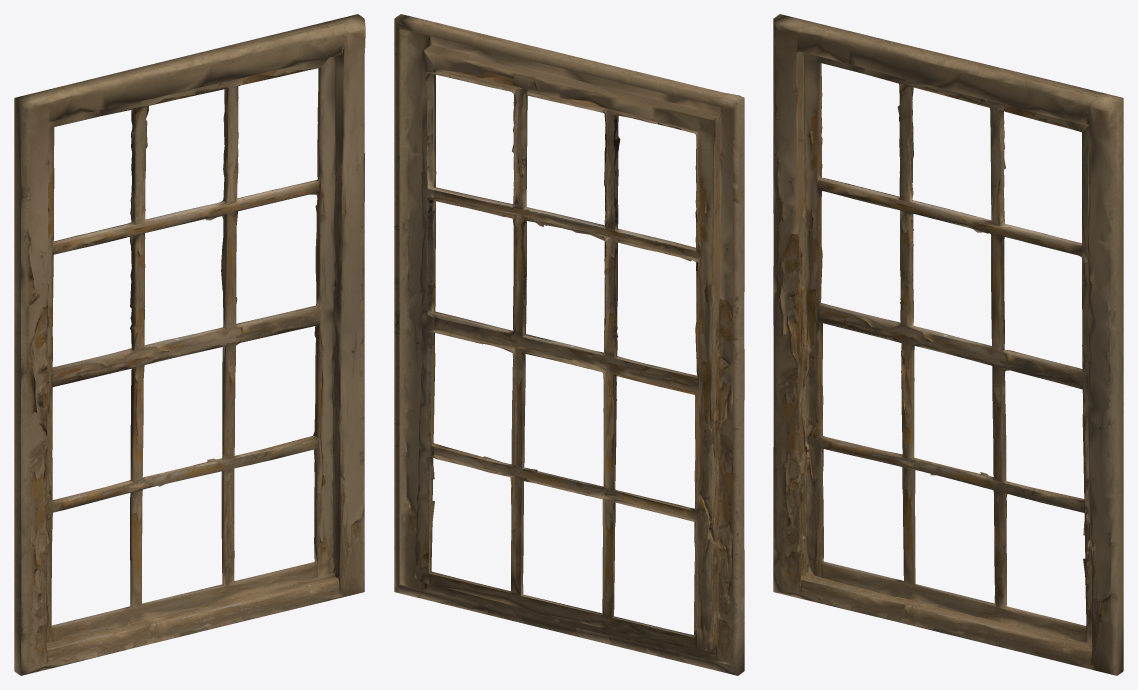
File: old_wooden_window_vmfwcabdw_mid.glb
The picture shows the model from 3 angles, left to right: view 1: azimuth 30°, elevation 25°; view 2: azimuth 150°, elevation 25°; view 3: azimuth 330°, elevation 25°; orthographic projection.
Visible parts, largest first — view 1: vmfwcabdw_LOD0_TIER2_000; view 2: vmfwcabdw_LOD0_TIER2_000; view 3: vmfwcabdw_LOD0_TIER2_000.
Boxes of the visible parts, box(x1,y1,x2,y2) form: vmfwcabdw_LOD0_TIER2_000: box(14, 14, 365, 675); vmfwcabdw_LOD0_TIER2_000: box(394, 14, 744, 675); vmfwcabdw_LOD0_TIER2_000: box(773, 14, 1123, 675).
Size of the model in its own units: 1.27 by 2.03 by 0.1047.
1 material, 1 textured.
